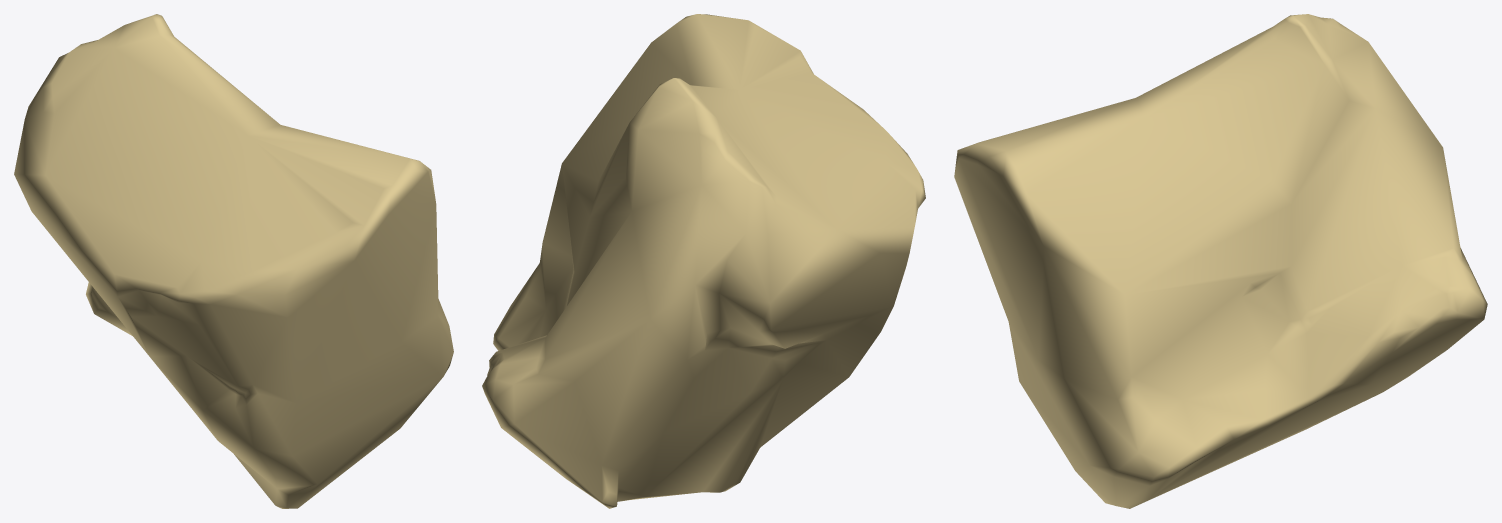
The picture shows the model from 3 angles, left to right: view 1: azimuth 30°, elevation 25°; view 2: azimuth 150°, elevation 25°; view 3: azimuth 270°, elevation 25°; orthographic projection. The views are drawn at different scales.
Visible parts, largest first — view 1: 左侧中间楔骨; view 2: 左侧中间楔骨; view 3: 左侧中间楔骨.
Part boxes in pixels (bbox=[...]): 左侧中间楔骨: bbox=[14, 14, 453, 508]; 左侧中间楔骨: bbox=[482, 14, 925, 508]; 左侧中间楔骨: bbox=[954, 14, 1487, 508].
Bounding box in the file's own units: 0.0288 × 0.0338 × 0.0354.
